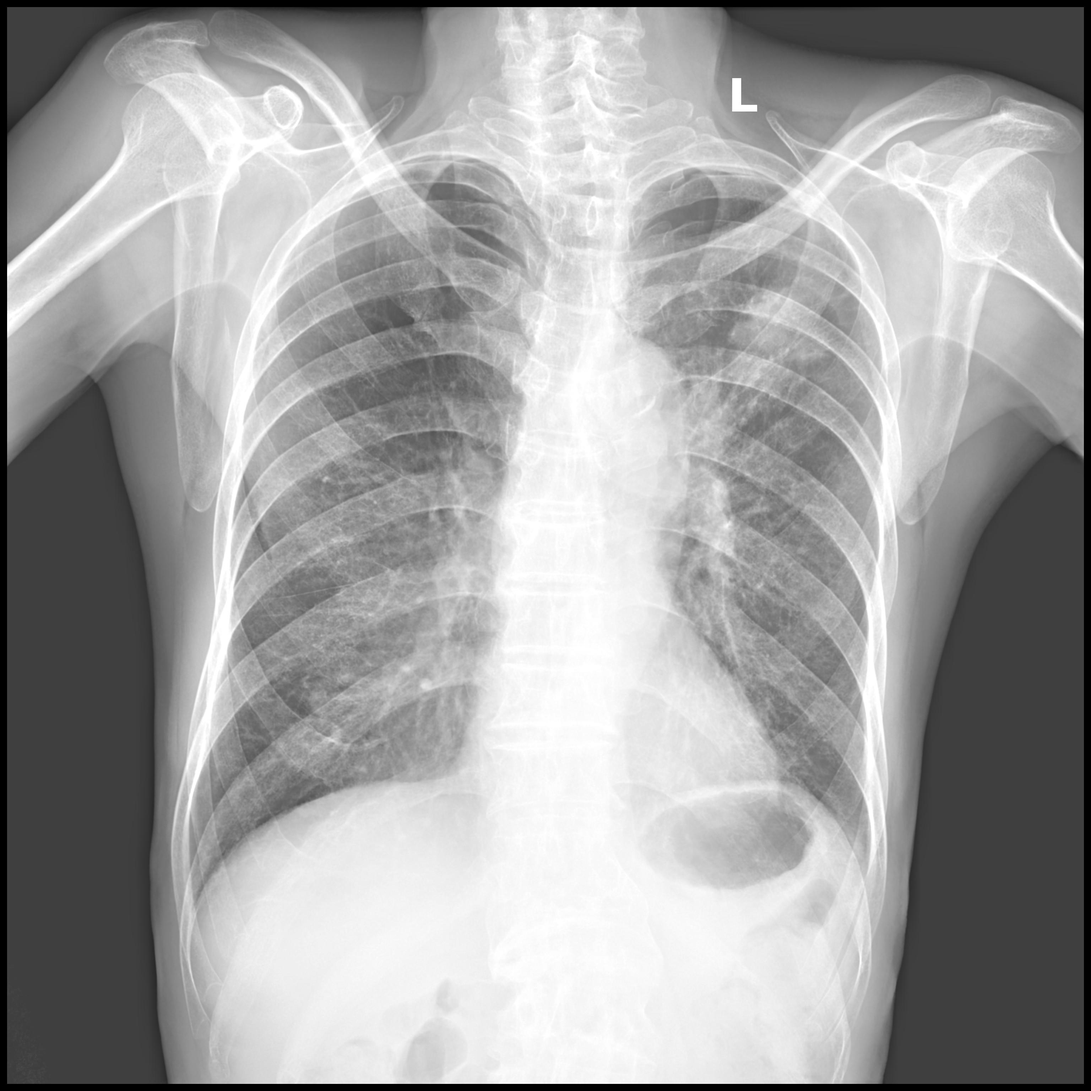Aortic enlargement: (580, 330, 688, 477)
Pleural thickening: (342, 157, 455, 192), (696, 159, 782, 184)
Pulmonary fibrosis: (714, 233, 851, 413)
